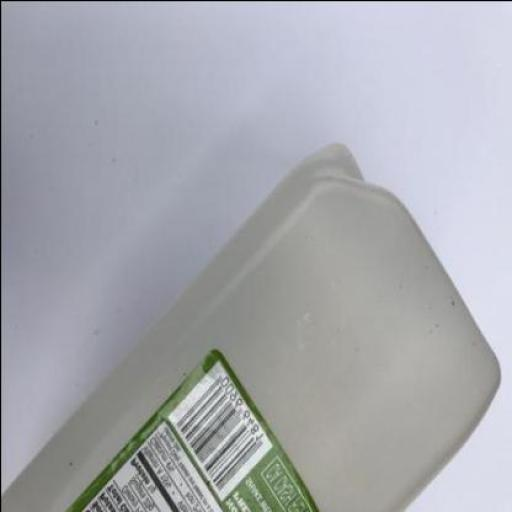plastic: (1, 142, 501, 510)
